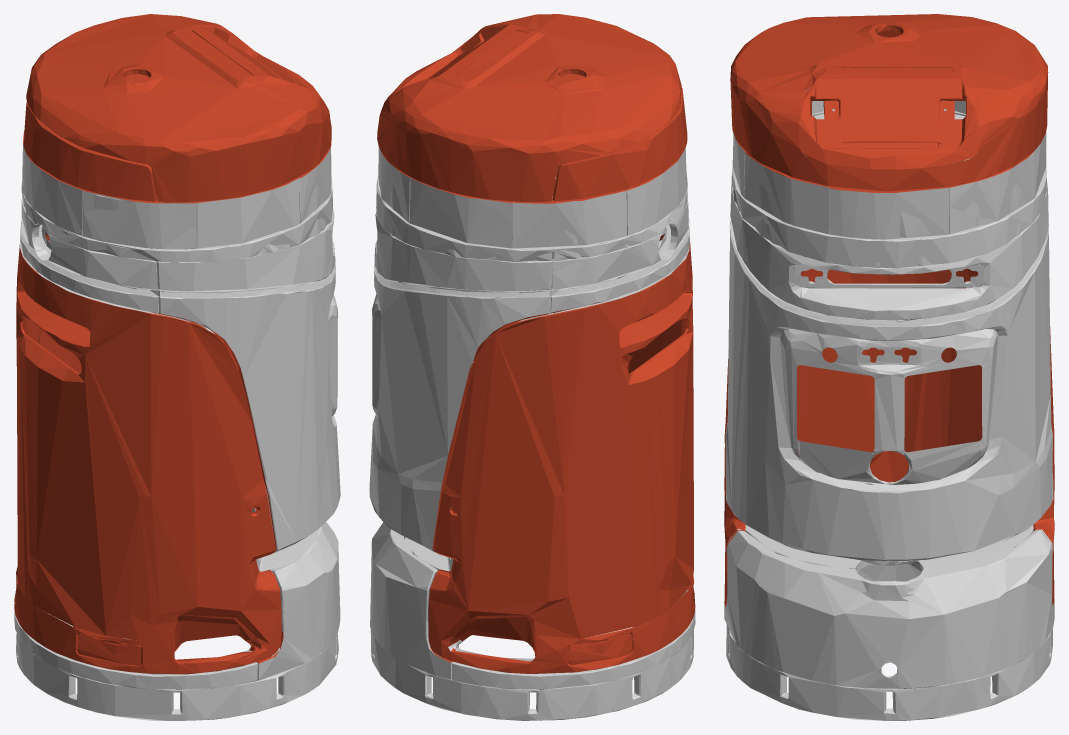
The model's file is ita_red.dae.
3 renders of one model, left to right at view 1: azimuth 30°, elevation 25°; view 2: azimuth 150°, elevation 25°; view 3: azimuth 270°, elevation 25°, orthographic. The views are drawn at different scales.
Parts seen in each view (by area): view 1: Robot_001, Robot, Robot_002, LED_transparent; view 2: Robot_001, Robot, Robot_002, LED_transparent; view 3: Robot, Robot_002, Robot_001, LED_transparent.
Part boxes in pixels (left/top/right/bottom): Robot_001: left=14, top=232, right=283, bottom=674; Robot: left=14, top=142, right=340, bottom=720; Robot_002: left=23, top=14, right=331, bottom=203; LED_transparent: left=20, top=218, right=335, bottom=297; Robot_001: left=428, top=233, right=695, bottom=673; Robot: left=369, top=145, right=695, bottom=720; Robot_002: left=377, top=14, right=687, bottom=203; LED_transparent: left=374, top=220, right=689, bottom=297; Robot: left=724, top=87, right=1054, bottom=720; Robot_002: left=730, top=14, right=1048, bottom=192; Robot_001: left=724, top=268, right=1054, bottom=607; LED_transparent: left=729, top=216, right=1047, bottom=326.
Size of the model in its own units: 0.4888 by 0.483 by 0.971.
